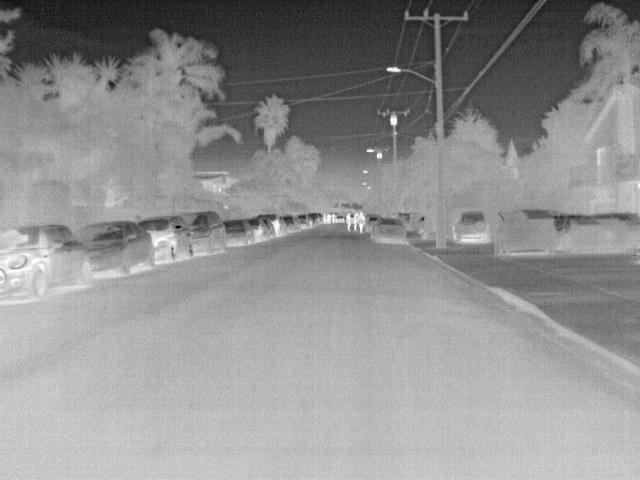car: (0, 222, 91, 304), (70, 222, 155, 278), (138, 214, 194, 264), (180, 209, 226, 256), (451, 210, 488, 246), (370, 216, 407, 244), (223, 220, 255, 250), (258, 213, 284, 235), (248, 218, 268, 244), (281, 214, 301, 234), (297, 214, 312, 228), (333, 214, 345, 224)
person: (354, 209, 367, 233), (345, 212, 354, 231)
